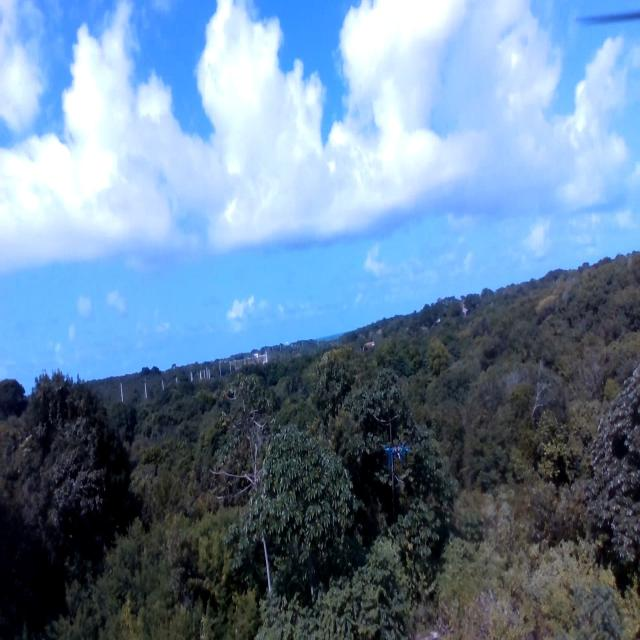-uav-: (372, 429, 419, 487)
